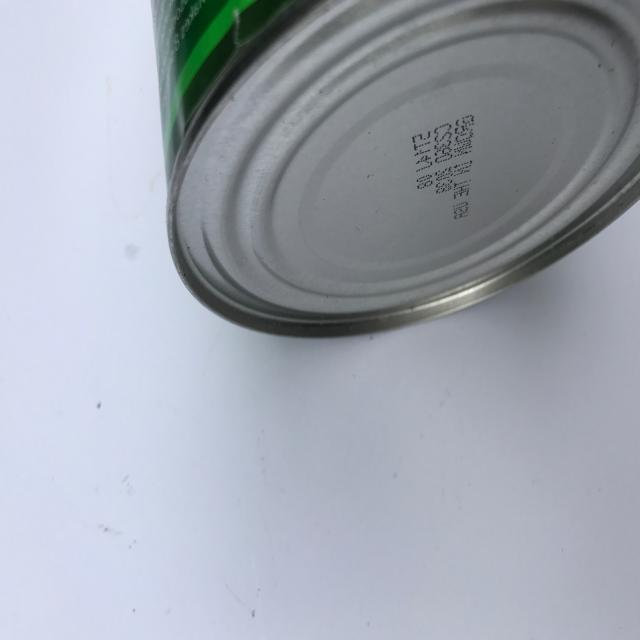metal: (149, 0, 640, 338)
